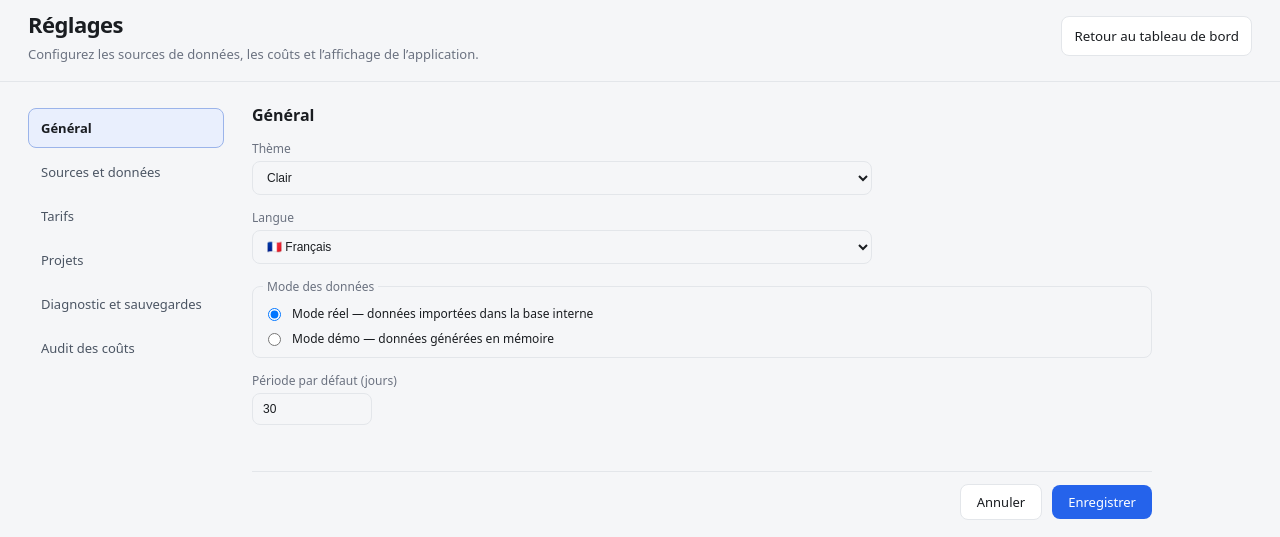
Test: SettingsModal project groups › keeps a project absent from current data visible and selected
Click the button "Projets": (126, 260) [28,240,224,280]
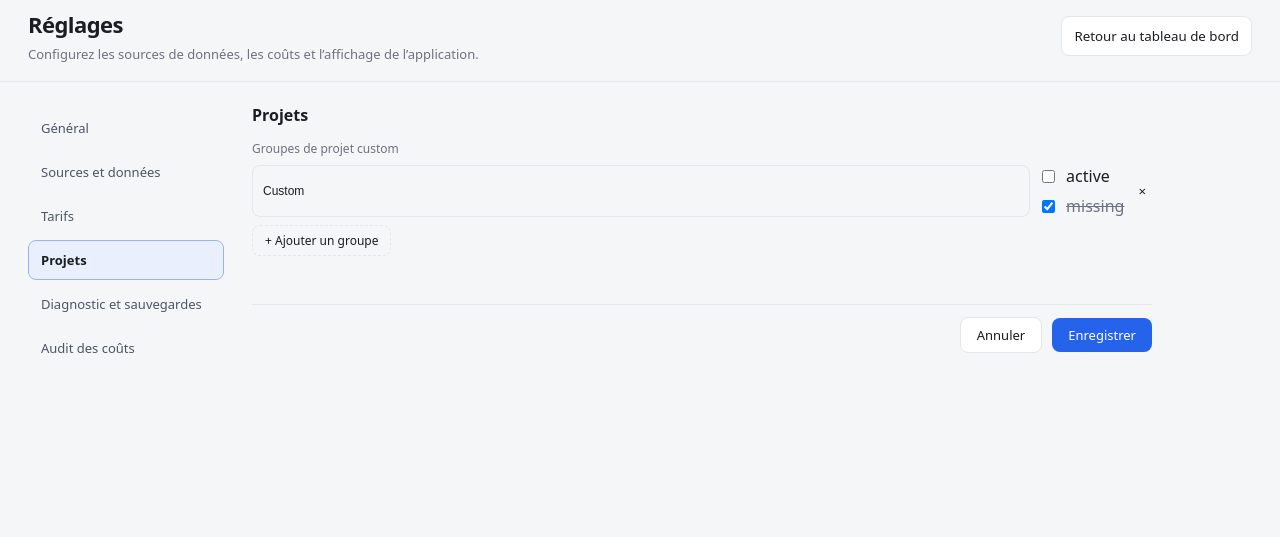
Now the checkbox labelled "missing" is checked, box [1042,200,1055,212]
